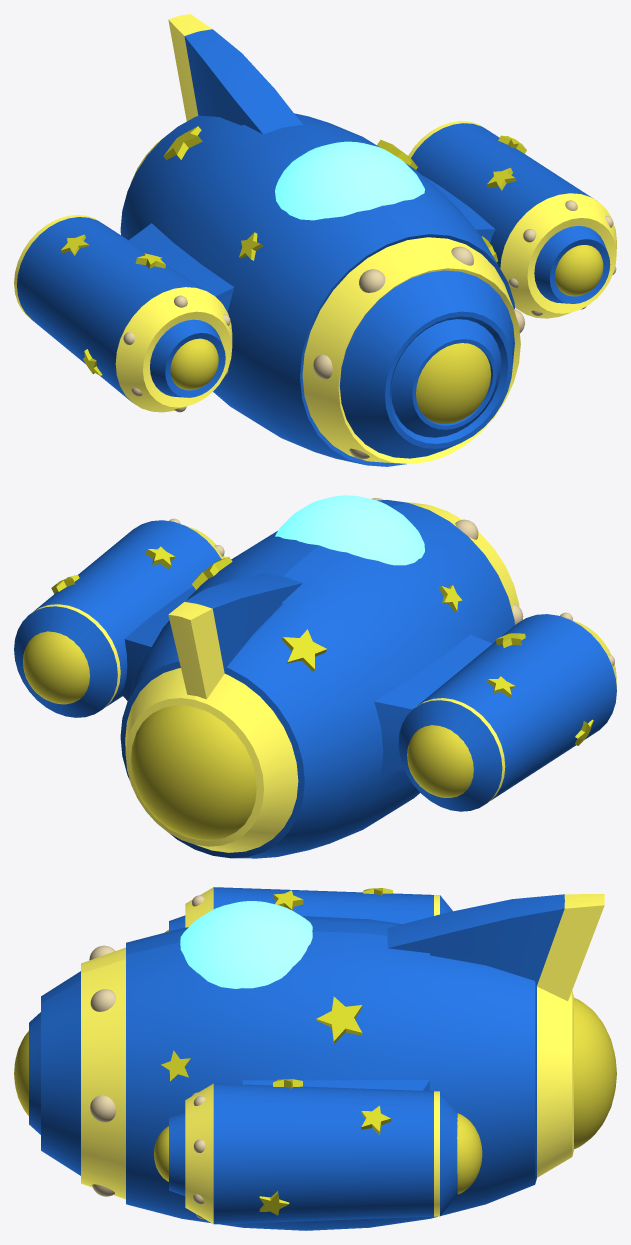
Rendered from space ship untitled.fbx.
3 views of the same model, one above another, from view 1: azimuth 30°, elevation 25°; view 2: azimuth 150°, elevation 25°; view 3: azimuth 270°, elevation 25° (orthographic). The views are drawn at different scales.
Visible parts, largest first — view 1: Corps, Lanterns, Stars, Little lights; view 2: Corps, Tubers, Stars, Little lights; view 3: Corps, Tubers, Stars, Little lights, Lanterns.
Part boxes in pixels (box(x1,y1,x2,y2)): Corps: box(14, 14, 616, 466); Lanterns: box(170, 245, 603, 424); Stars: box(60, 126, 526, 375); Little lights: box(123, 200, 616, 459); Corps: box(14, 495, 616, 858); Tubers: box(23, 631, 473, 840); Stars: box(51, 546, 593, 745); Little lights: box(169, 498, 614, 665); Corps: box(29, 887, 604, 1230); Tubers: box(457, 997, 616, 1194); Stars: box(161, 888, 392, 1215); Little lights: box(89, 895, 205, 1219); Lanterns: box(14, 930, 168, 1181).
Size of the model in its own units: 321 by 186 by 319.
